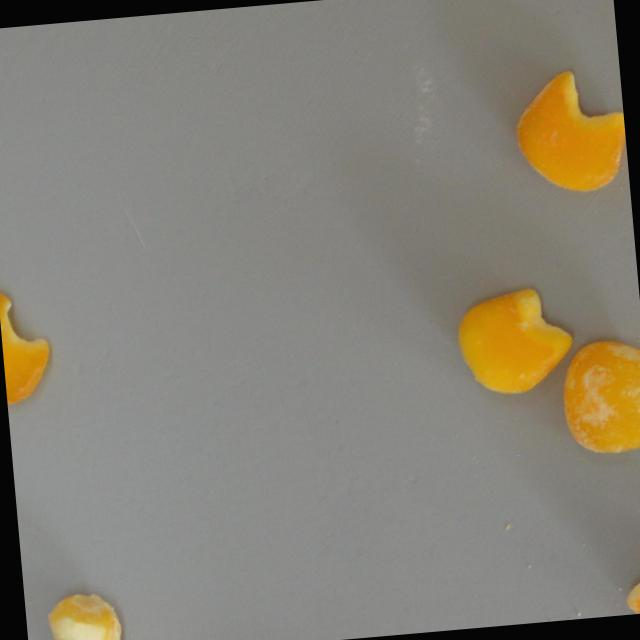no_canjicado: (509, 65, 630, 197), (455, 287, 567, 399), (0, 283, 53, 404)
pelicula: (554, 335, 640, 458), (42, 587, 122, 640), (617, 539, 640, 615)
